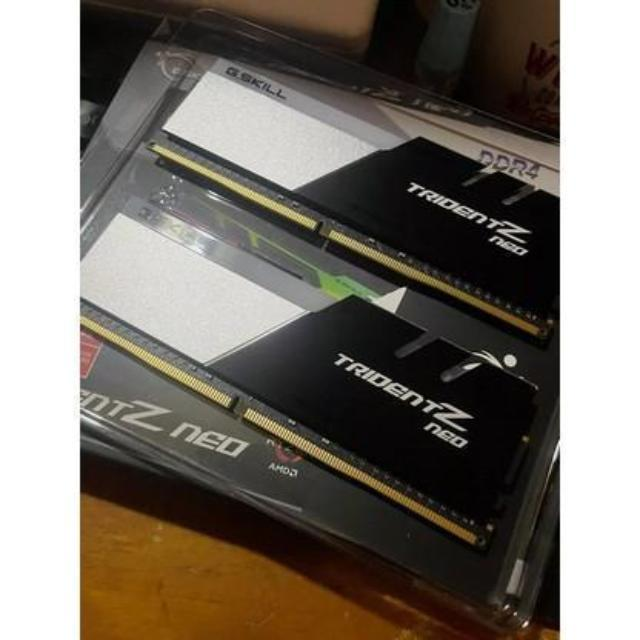RAM: (78, 190, 544, 564), (146, 53, 560, 347)
